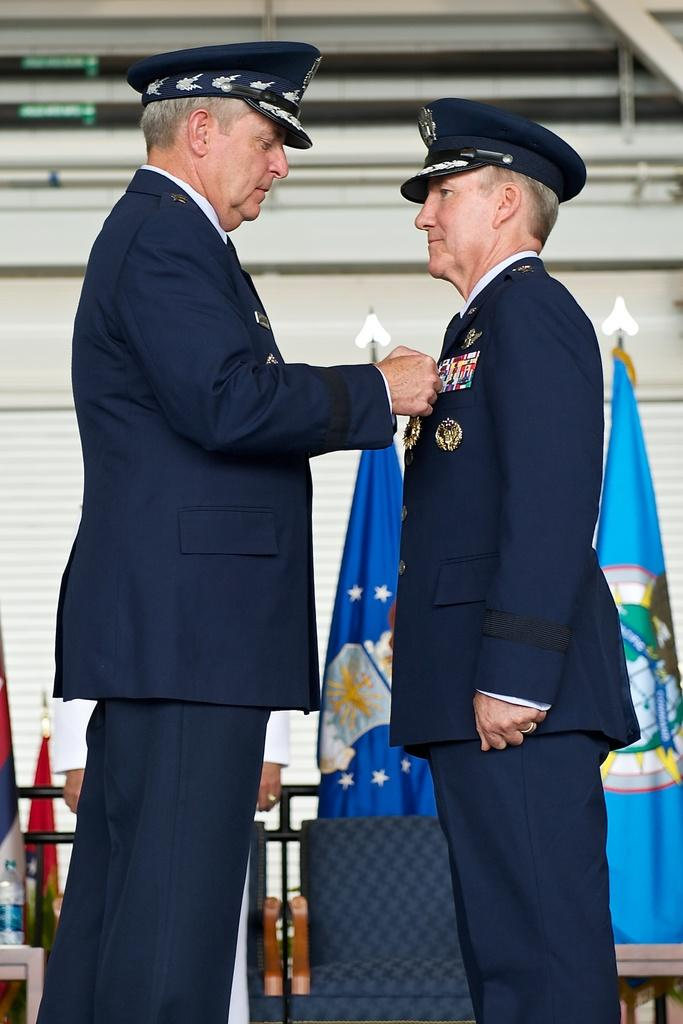Hat: (125, 42, 316, 148), (398, 98, 589, 203)
